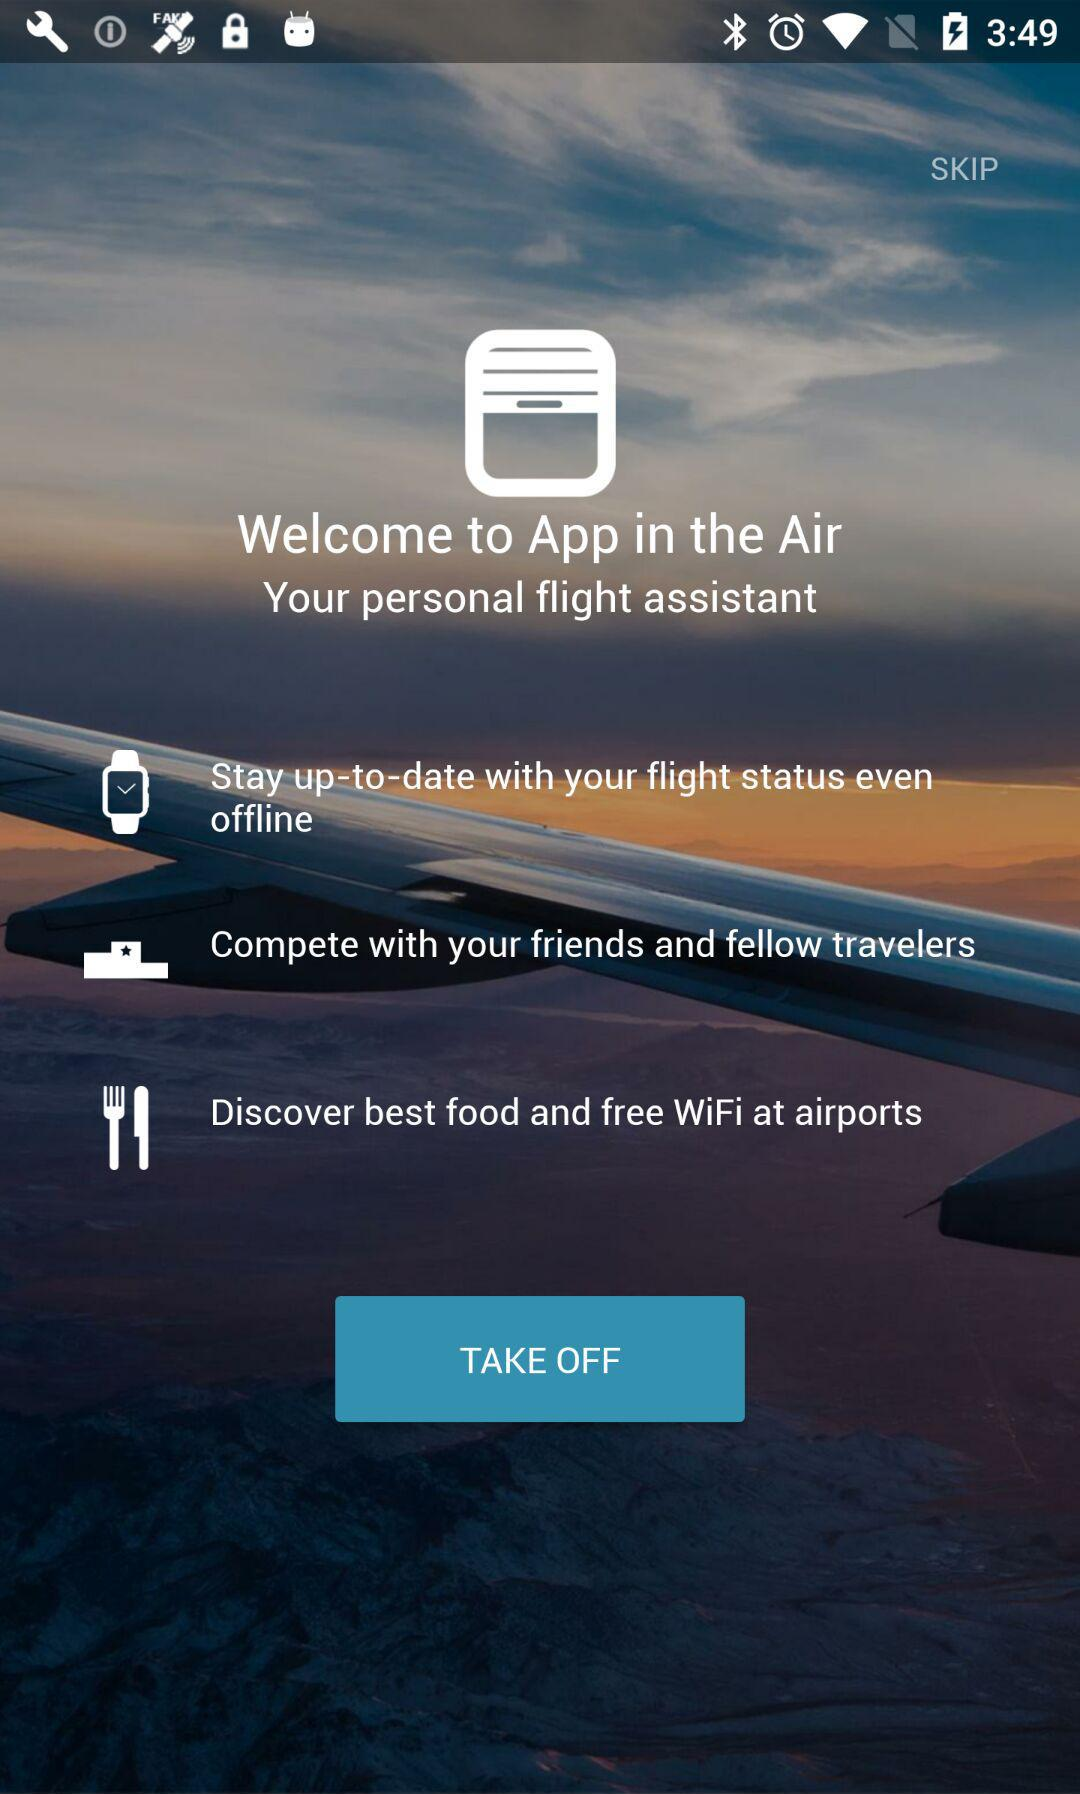BackgroundImage: (1, 64, 1080, 1794)
Image: (464, 328, 618, 500), (102, 1085, 151, 1173), (102, 750, 151, 835), (85, 941, 170, 982)
Text: (237, 511, 844, 624), (209, 762, 933, 835), (211, 1092, 924, 1138), (211, 926, 978, 967), (930, 158, 1001, 183)
TextButton: (334, 1296, 746, 1422)
UpperTaskBar: (1, 1, 1080, 64)
